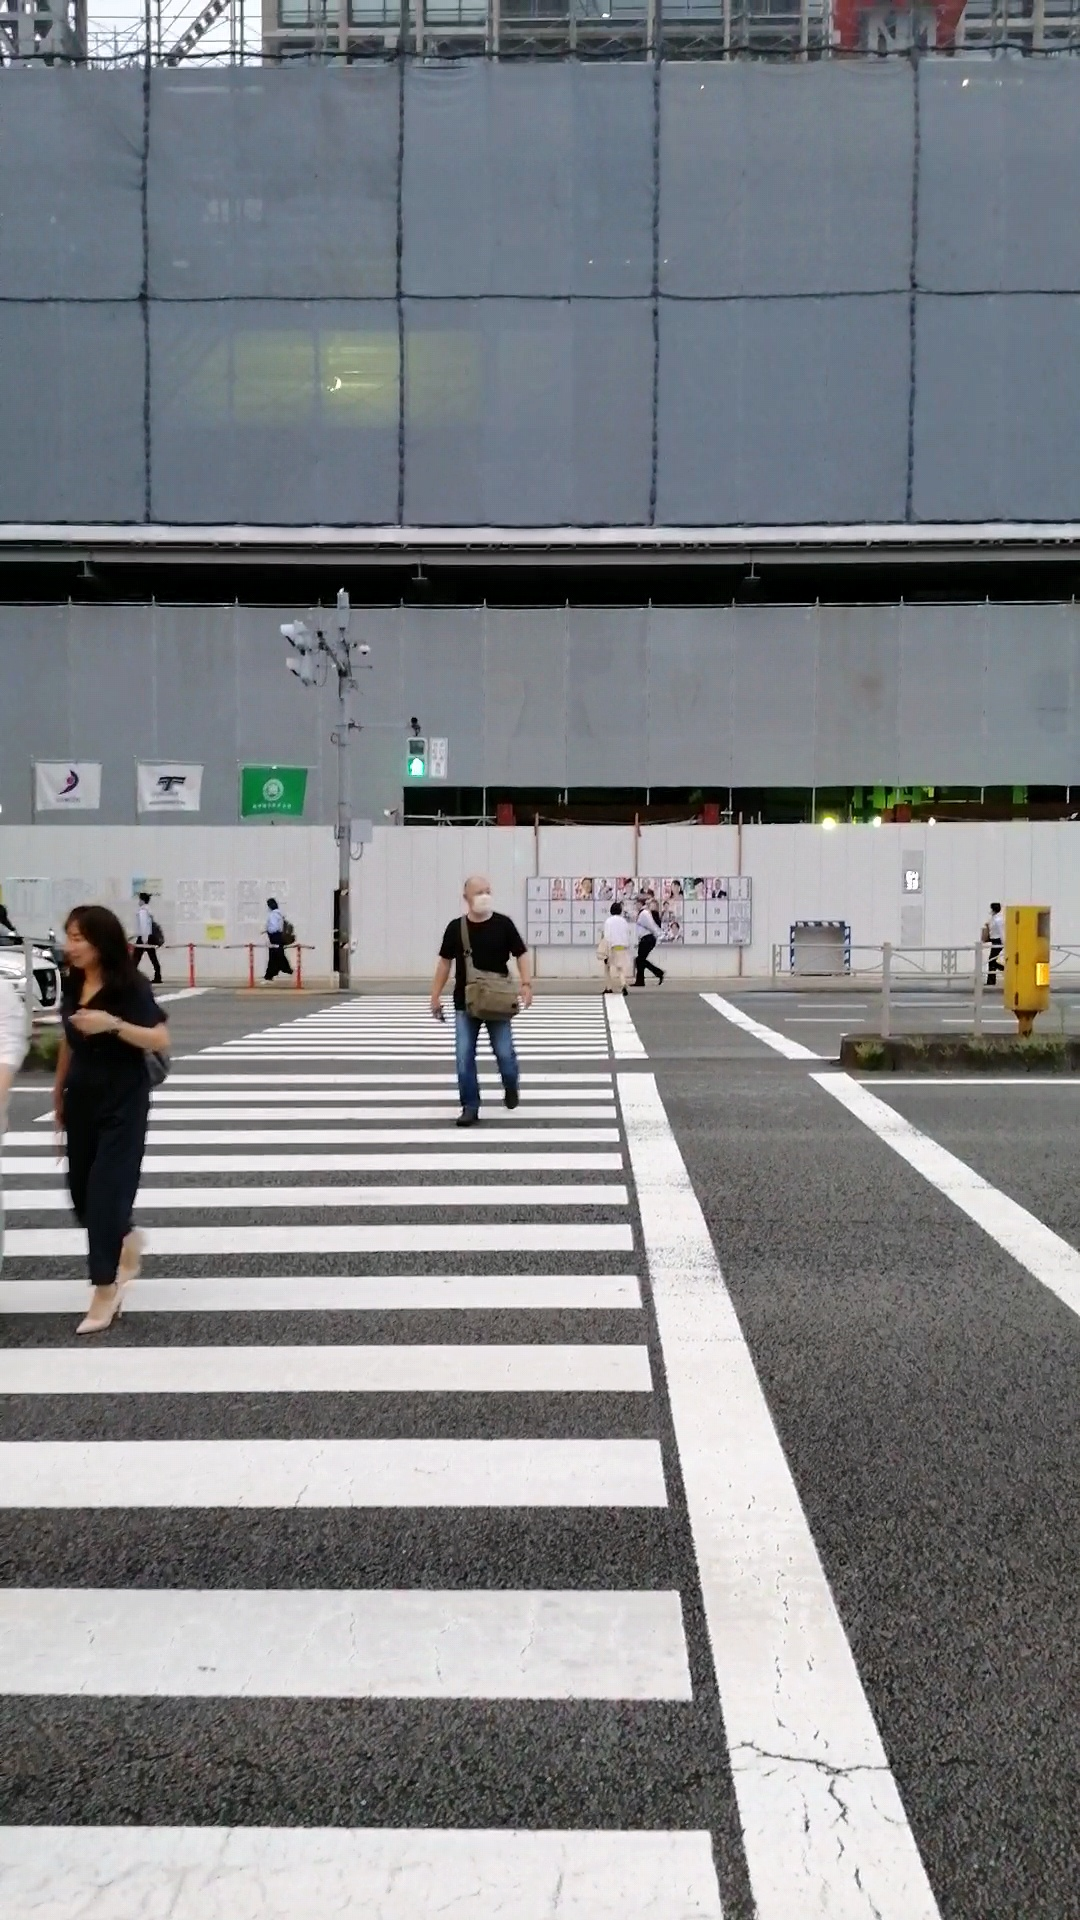green: (406, 735, 427, 777)
